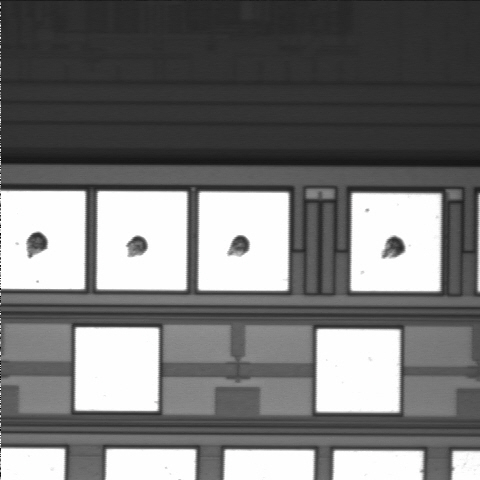pad: (198, 192, 289, 291), (97, 191, 187, 290), (351, 193, 441, 291), (75, 327, 159, 411), (317, 329, 400, 412)
